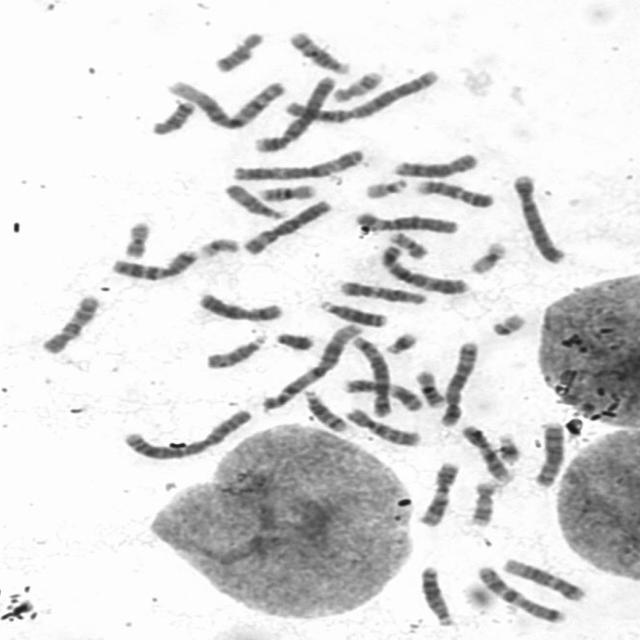A1: (258, 318, 366, 412), (163, 74, 290, 131)
A2: (279, 64, 443, 124), (117, 404, 255, 462)
A3: (228, 144, 368, 182), (375, 241, 473, 295)
B4: (250, 71, 339, 155), (508, 169, 570, 265)
B5: (344, 332, 393, 419), (437, 336, 481, 428)
C10: (36, 290, 103, 356), (341, 403, 423, 448)
C11: (413, 457, 462, 528), (339, 374, 427, 412)
C12: (499, 554, 589, 602), (335, 276, 430, 306)
C6: (238, 194, 335, 257), (349, 207, 462, 236)
C7: (473, 562, 567, 624), (106, 245, 201, 282)
C8: (389, 148, 482, 178), (530, 418, 569, 488)
C9: (457, 421, 516, 484), (411, 175, 497, 209)
D13: (415, 561, 459, 628), (316, 296, 390, 328)
D14: (284, 27, 353, 75), (300, 386, 351, 434)
D15: (220, 178, 290, 220), (202, 329, 270, 371)
E16: (412, 366, 448, 408), (253, 180, 319, 202)
E17: (327, 66, 385, 104), (465, 476, 499, 528)
E18: (209, 27, 267, 74), (147, 96, 197, 136)
F19: (465, 237, 510, 276), (195, 234, 242, 259)
F20: (118, 217, 154, 260), (384, 228, 431, 260)
G21: (380, 327, 421, 356), (492, 429, 524, 465)
G22: (360, 174, 410, 200), (486, 309, 529, 338)
X: (192, 288, 286, 324)
Y: (271, 327, 317, 352)
